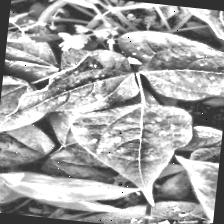Bean Rust: (62, 94, 199, 208), (20, 45, 139, 121), (124, 27, 224, 107), (0, 74, 46, 144), (179, 8, 224, 70)
